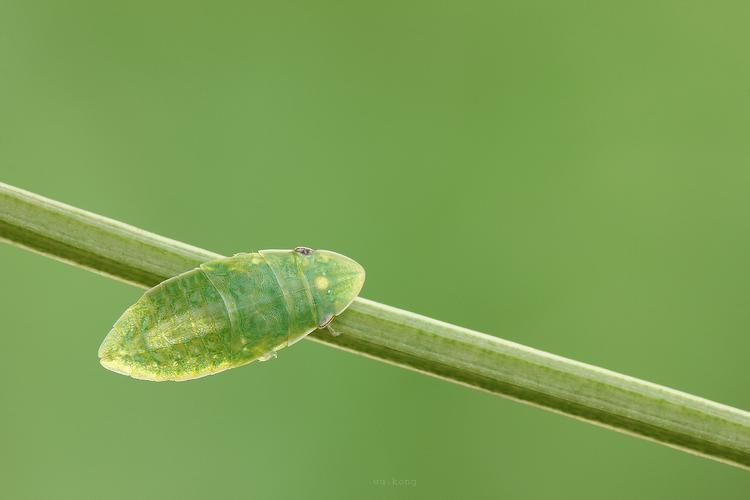Cicadellidae: (94, 247, 365, 383)
